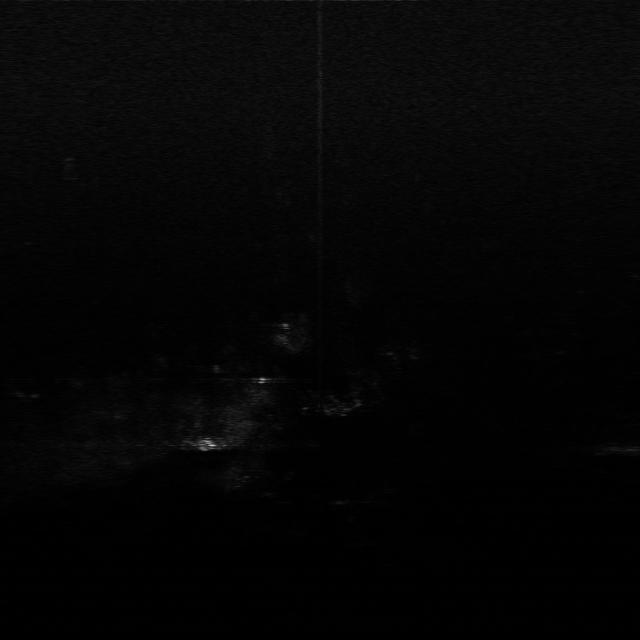rov: (189, 434, 227, 456)
